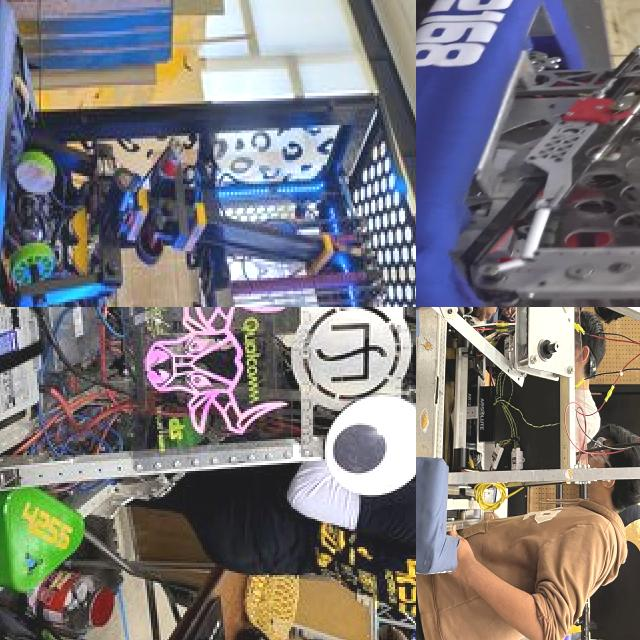FRC-Robots: (0, 307, 416, 622), (0, 0, 416, 307), (416, 0, 640, 307), (416, 307, 640, 612)
